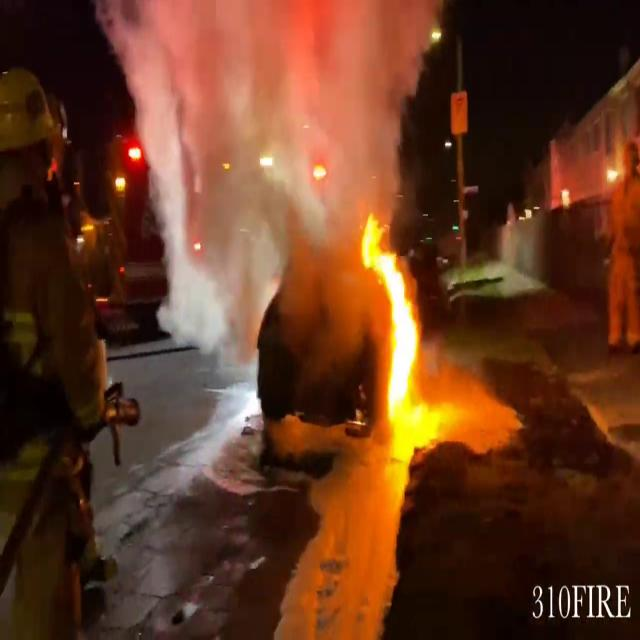Fire: (360, 211, 426, 445)
Smoke: (116, 0, 435, 350)
